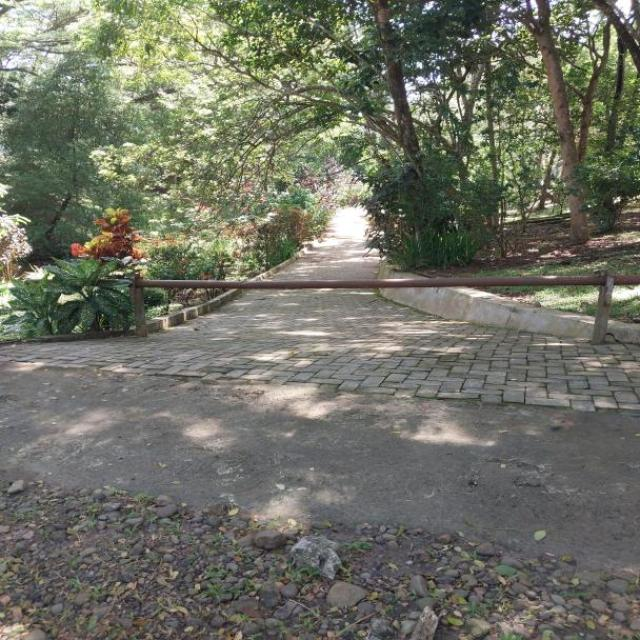barrier ahead at: (139, 272, 615, 297)
plant ahead at: (23, 250, 132, 342)
